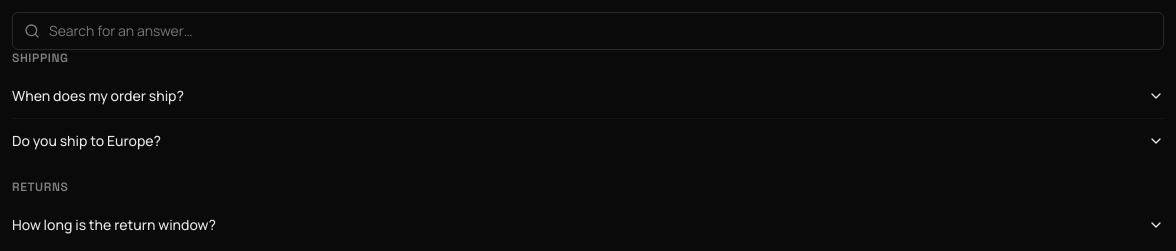
FaqSearch + FaqList › no matches shows "No matches"
Step 1. Type "zzzzz" into the field labelled "Search for an answer…" → (588, 31), box [12, 12, 1164, 50]
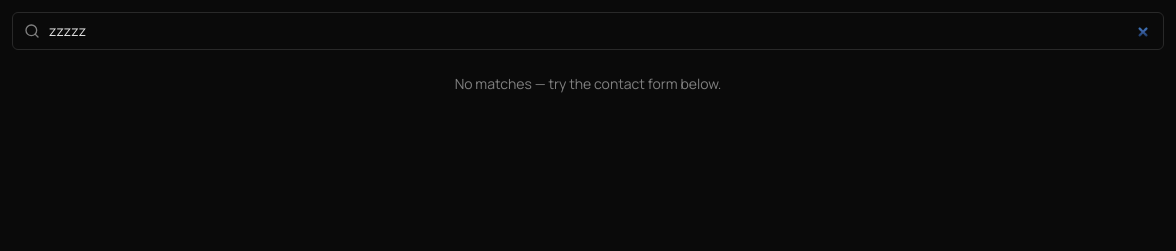
expect the text "No matches — try the contact form below." is shown: met, box [455, 74, 721, 93]
